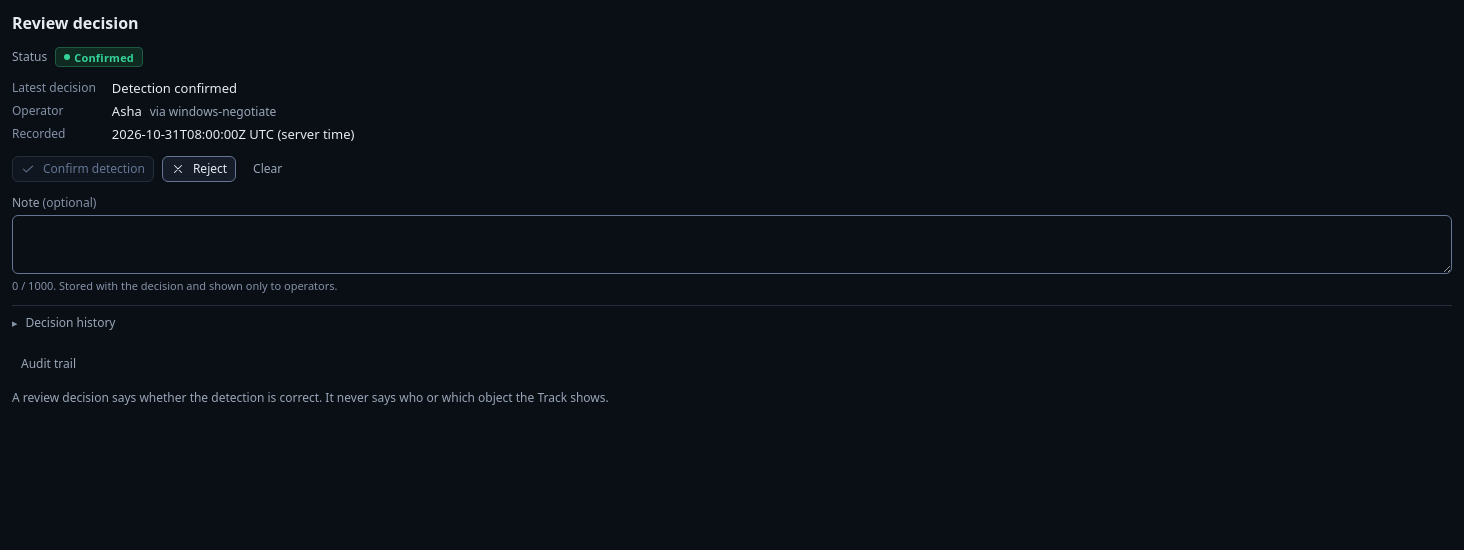
Test case: PoC S11-full Track review controls › pages the decision history on Review, and links the audit trail of the Track
Step 1. Click the heading "Decision history" → [70, 323], box [26, 314, 116, 331]
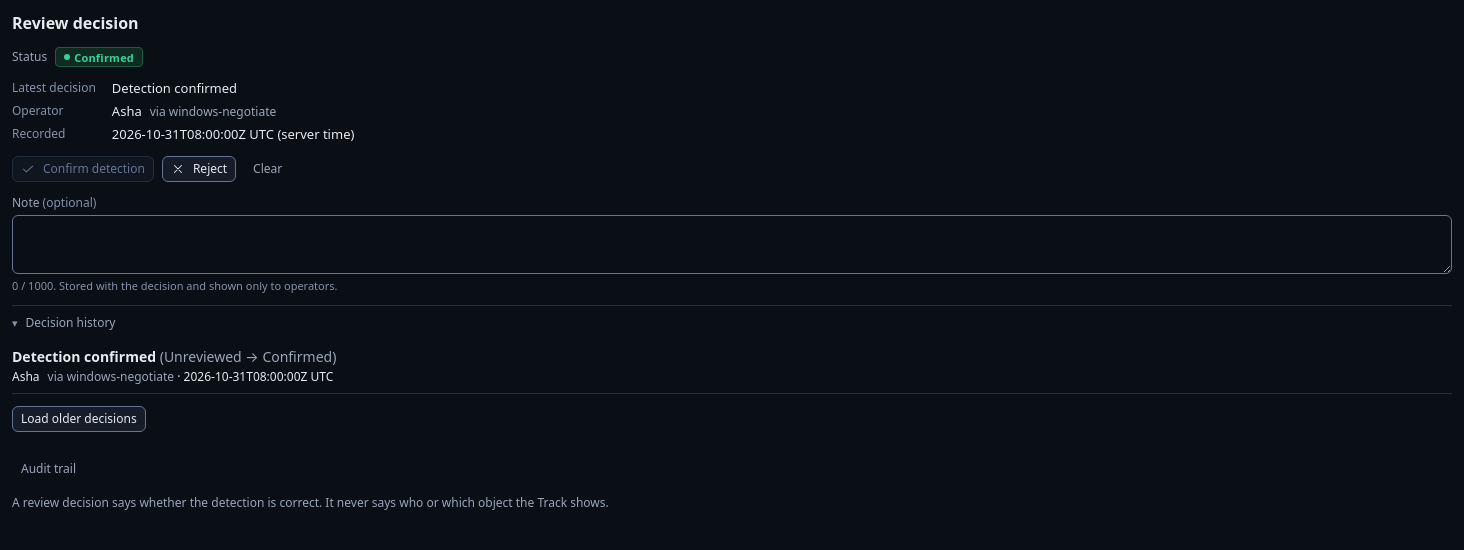
Expected: the number of list items is 1, [12, 348, 1452, 394]
Step 2. Click the button "Load older decisions" → [79, 419], box [12, 406, 146, 432]
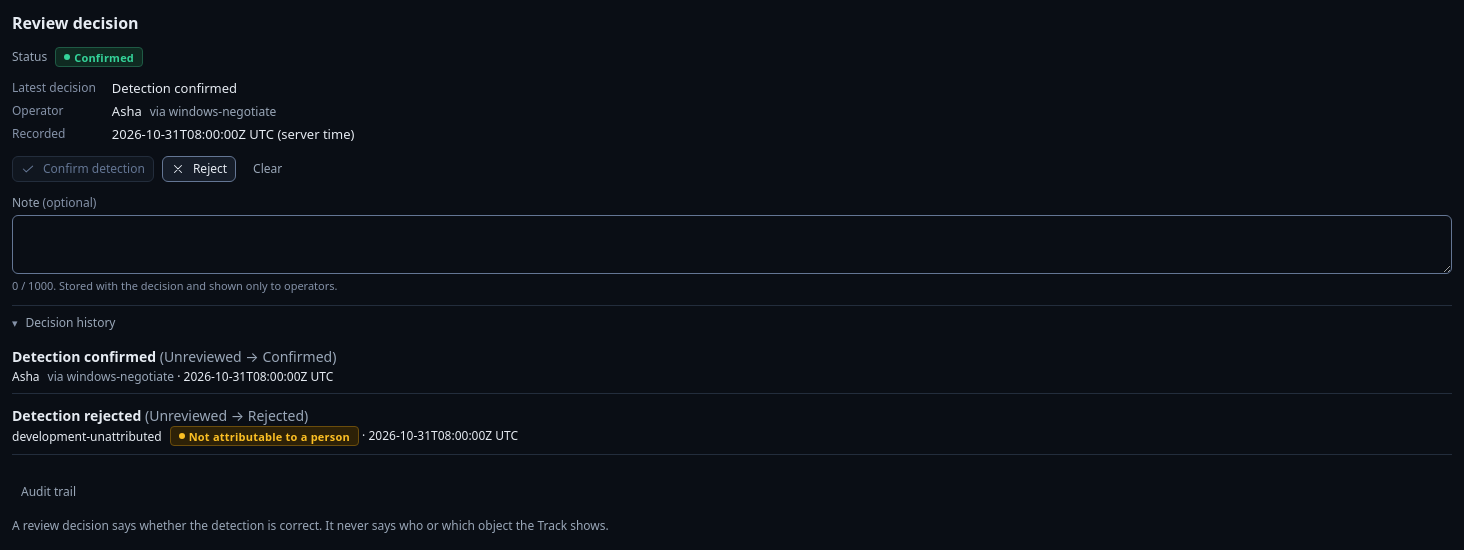
Expected: the number of list items is 2, [12, 348, 1452, 394]; [12, 406, 1452, 456]
Expected: the text "Not attributable to a person" is shown, [170, 426, 359, 446]
Expected: the button "Load older decisions" is gone
